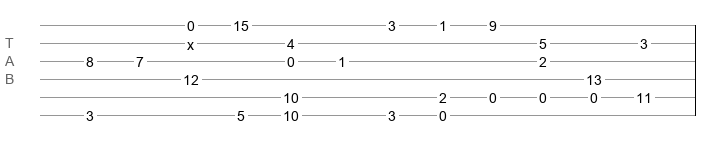0: (187, 18, 195, 28), (287, 54, 295, 64), (439, 108, 447, 118), (489, 90, 497, 100), (539, 90, 547, 100), (590, 90, 598, 100)
1: (338, 54, 346, 64), (439, 18, 447, 28)
10: (283, 108, 299, 118), (283, 90, 299, 100)
11: (636, 90, 652, 100)
12: (183, 72, 199, 82)
13: (586, 72, 602, 82)
15: (233, 18, 249, 28)
2: (439, 90, 447, 100), (539, 54, 547, 64)
3: (86, 108, 94, 118), (388, 108, 396, 118), (388, 18, 396, 28), (640, 36, 648, 46)
4: (287, 36, 295, 46)
5: (237, 108, 245, 118), (539, 36, 547, 46)
7: (136, 54, 144, 64)
8: (86, 54, 94, 64)
9: (489, 18, 497, 28)
x: (187, 37, 194, 45)
